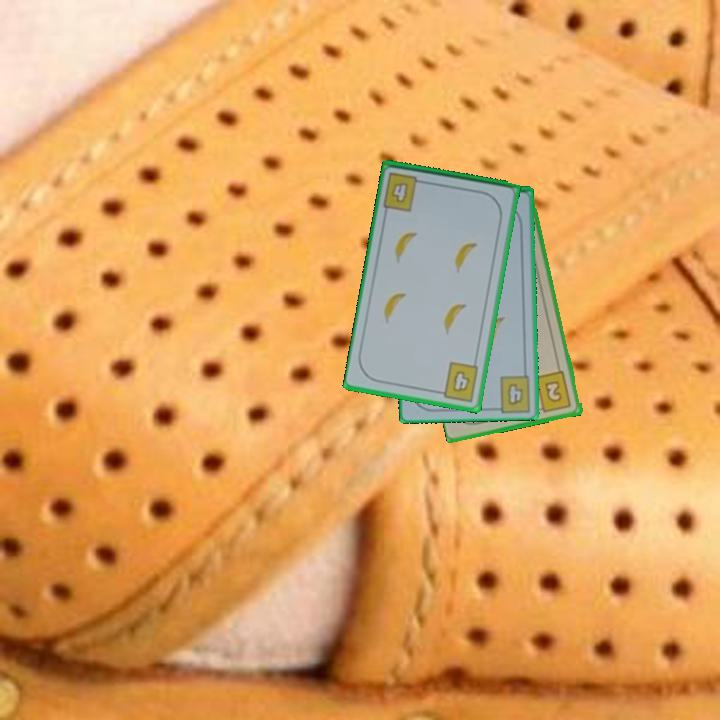2b: (532, 368, 574, 415)
4b: (434, 358, 481, 405), (380, 169, 429, 214), (504, 381, 526, 408)
